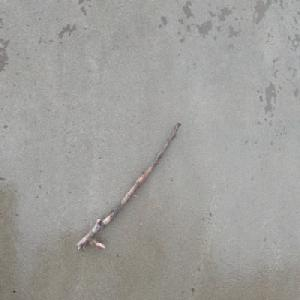Wood: (75, 119, 182, 252)
